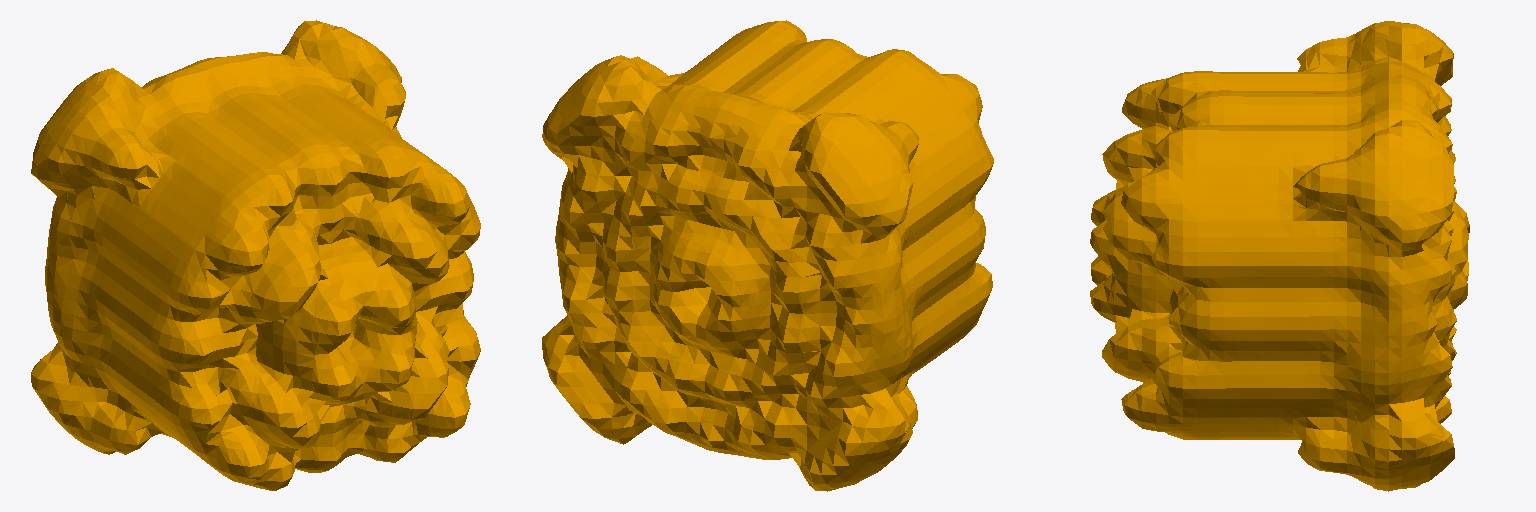
robot.urdf — L25_2:
<?xml version="1.0"?>
<robot name="L25_2">
  <link name="base_link">
    <visual>
      <geometry>
        <mesh filename="../../../../meshes/egad/train/L25_2.obj" />
      </geometry>
    </visual>
  </link>
</robot>

--- Facts derived from the render (not from the file) ---
3 views of the same robot in one strip: view 1: azimuth 30°, elevation 25°; view 2: azimuth 150°, elevation 25°; view 3: azimuth 270°, elevation 25° (orthographic).
Robot: L25_2 — 1 links, 0 joints (none); root link base_link; default pose: all joints at 0.
Links seen in each view (by area): view 1: base_link; view 2: base_link; view 3: base_link.
Link boxes in pixels (x1,y1,x2,y2): base_link: (31,20,480,490); base_link: (542,20,993,491); base_link: (1090,21,1469,491).
Size in the robot's own frame: 0.0635 by 0.06 by 0.0635 metres.
Meshes: 1 distinct files referenced, 1 mesh visuals loaded (1 OBJ).